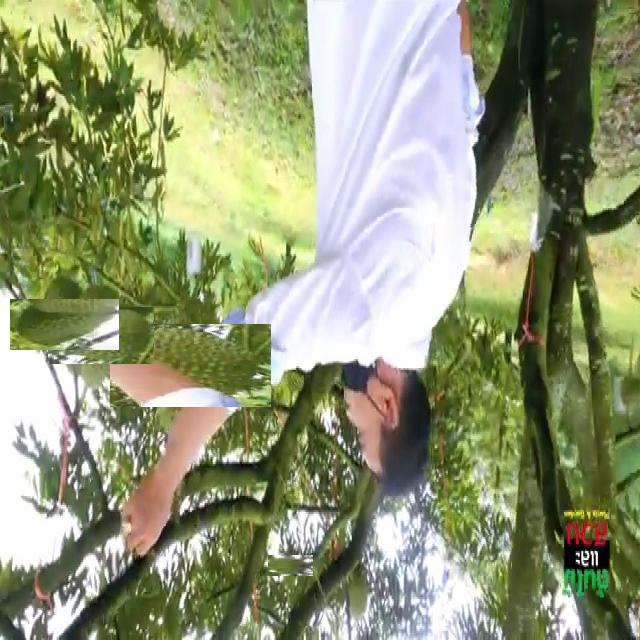durian: (129, 304, 252, 427), (60, 294, 143, 377), (24, 284, 104, 365), (346, 557, 373, 625), (274, 548, 307, 582)
